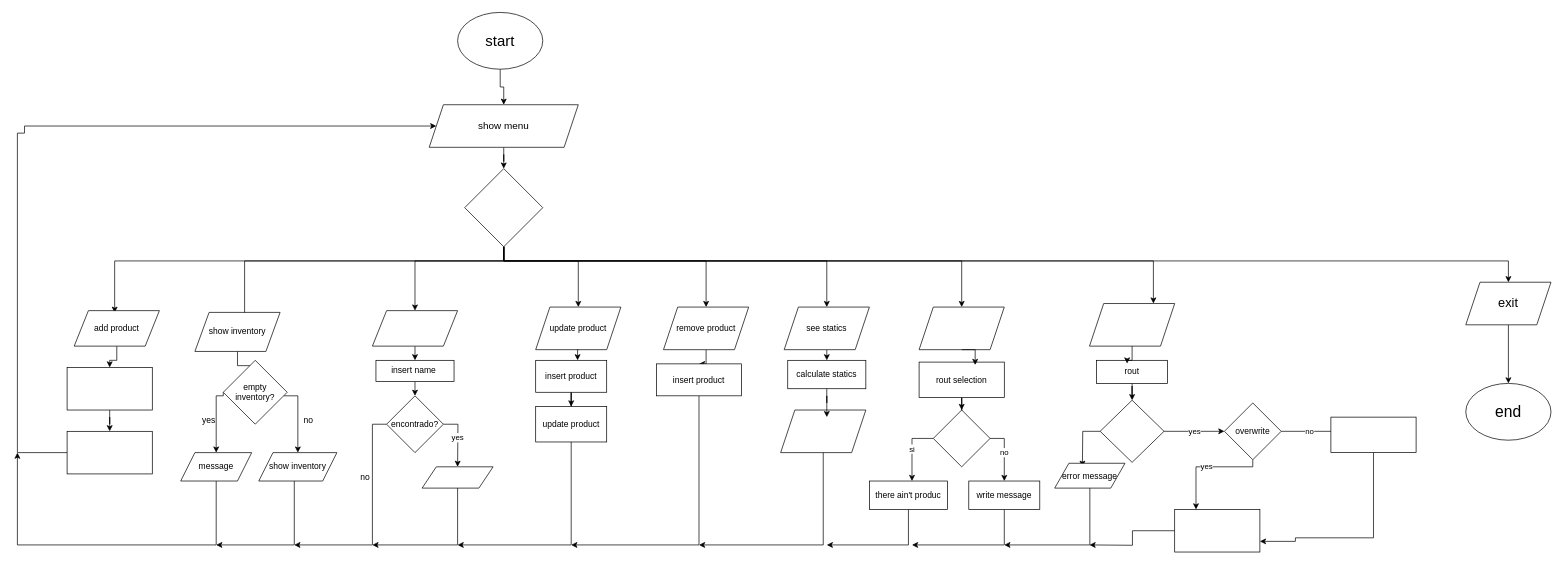
This 1563x564 diagram has some shape labels left out. Each missing label, with the centre of its shape:
ask for name,price and quantity: the point at 109,388
choose an aoption: the point at 503,207
emty inventory?: the point at 961,438
save csv: the point at 961,328
save in the inventory: the point at 109,452
search for product: the point at 415,328
show product: the point at 457,477
show results: the point at 823,431
to fuse: the point at 1373,434
update inventory: the point at 1217,530
upload csv: the point at 1132,324
validate format: the point at 1131,431
